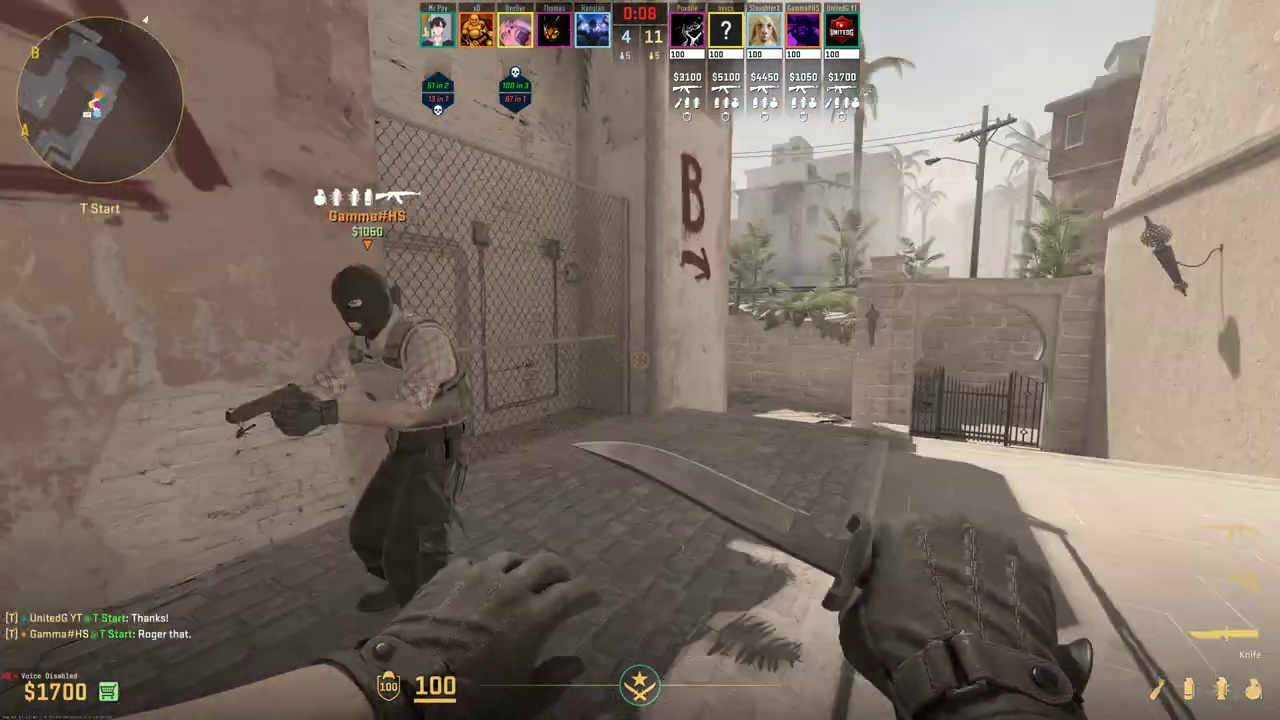Terrorist: (333, 265, 471, 614)
